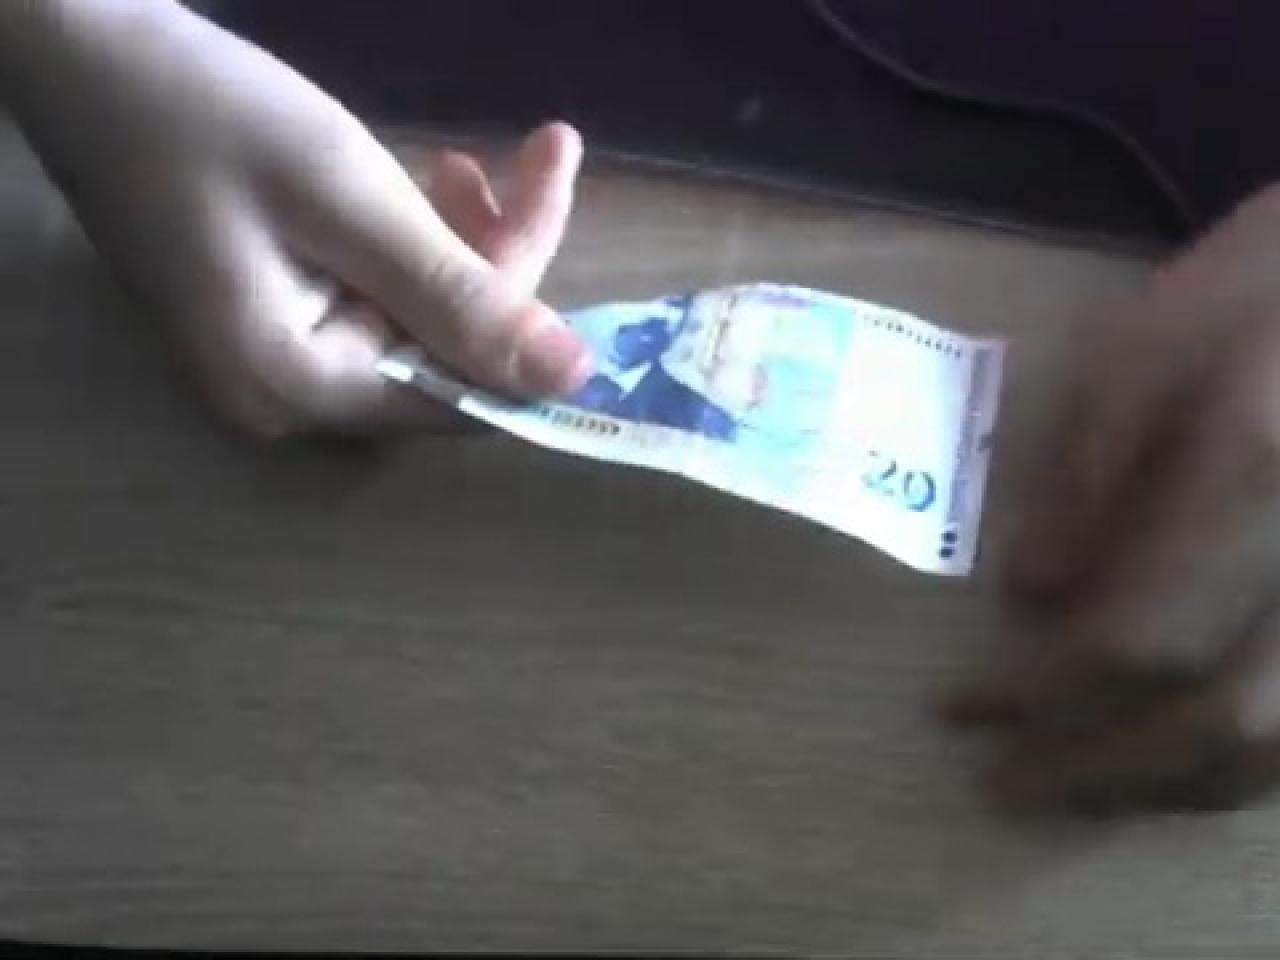20leva: (371, 274, 1011, 581)
